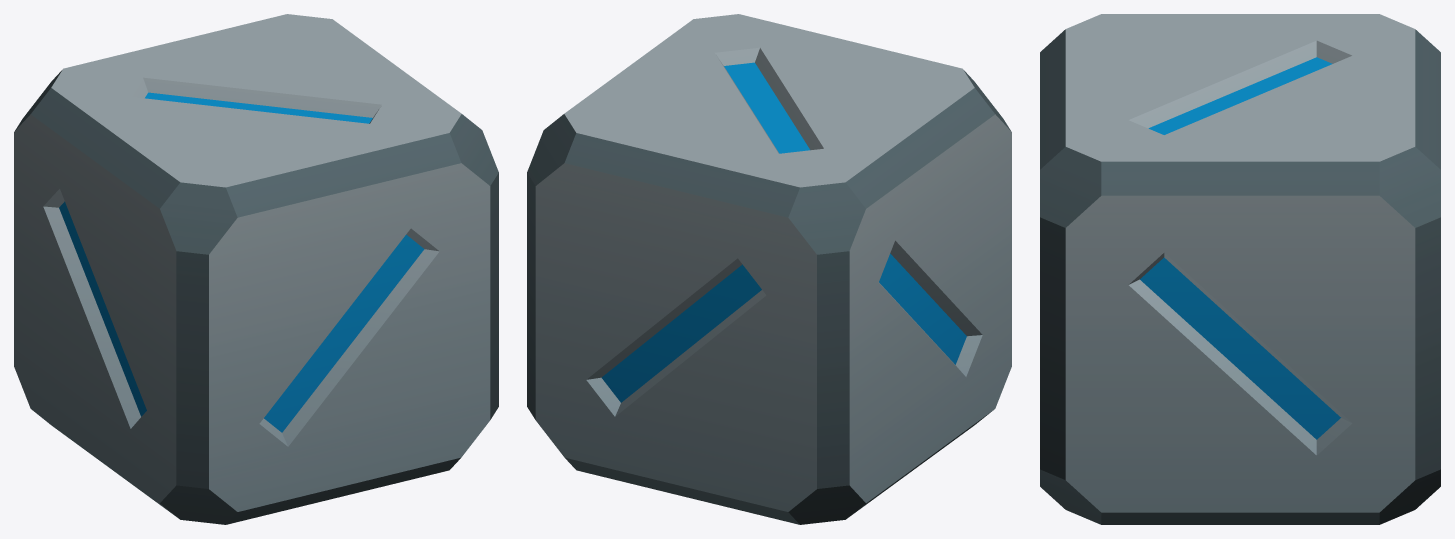
The picture shows the model from 3 angles, left to right: view 1: azimuth 30°, elevation 25°; view 2: azimuth 150°, elevation 25°; view 3: azimuth 270°, elevation 25°; orthographic projection. The views are drawn at different scales.
Parts seen in each view (by area): view 1: Box_002; view 2: Box_002; view 3: Box_002.
Boxes of the visible parts, x1=… form: Box_002: x1=14, y1=14, x2=498, y2=524; Box_002: x1=527, y1=14, x2=1011, y2=524; Box_002: x1=1040, y1=14, x2=1440, y2=524.
Size of the model in its own units: 60 by 60 by 60.
